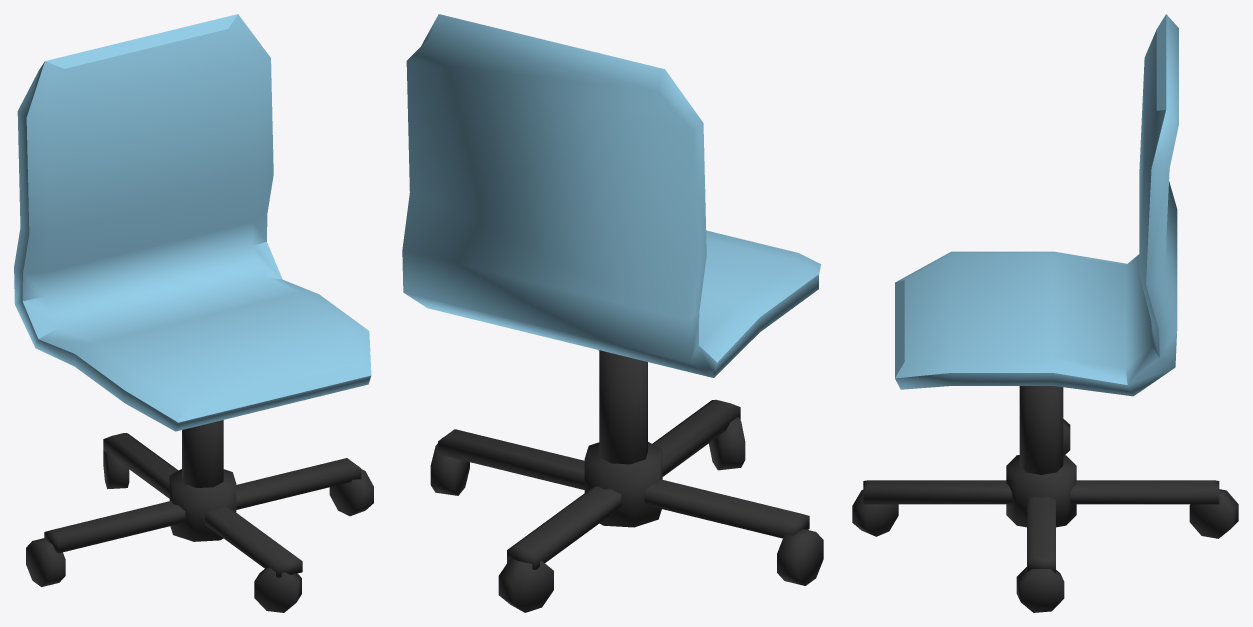
The model's file is Chair2.FBX.
The picture shows the model from 3 angles, left to right: view 1: azimuth 30°, elevation 25°; view 2: azimuth 150°, elevation 25°; view 3: azimuth 270°, elevation 25°; orthographic projection. The views are drawn at different scales.
Visible parts, largest first — view 1: Chair2; view 2: Chair2; view 3: Chair2.
Boxes of the visible parts, box(x1,y1,x2,y2) form: Chair2: box(14, 14, 373, 612); Chair2: box(402, 14, 823, 612); Chair2: box(852, 14, 1238, 612).
Bounding box in the file's own units: 0.9515 × 1.3 × 0.9666.
